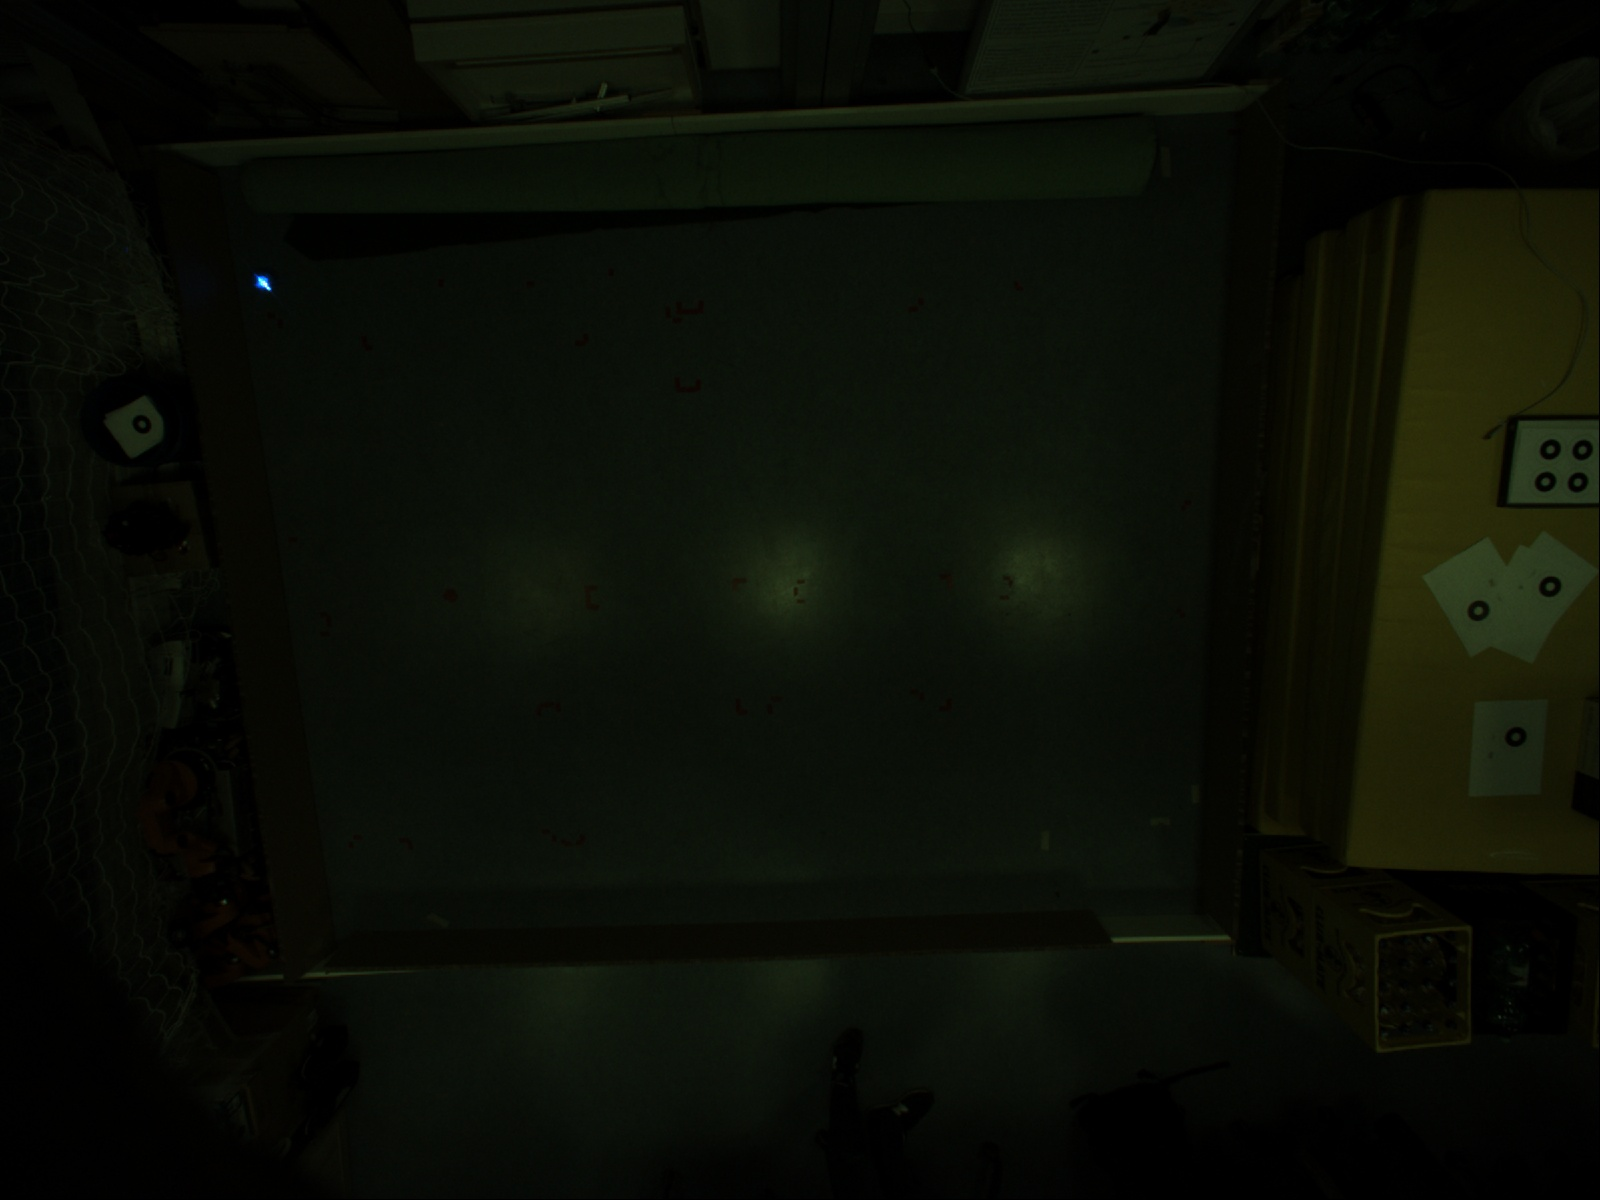sphero: (251, 268, 275, 295)
